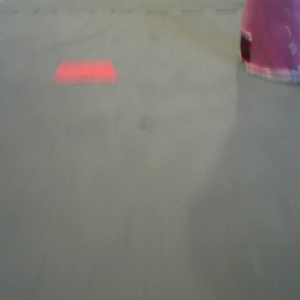right: (233, 1, 300, 86)
